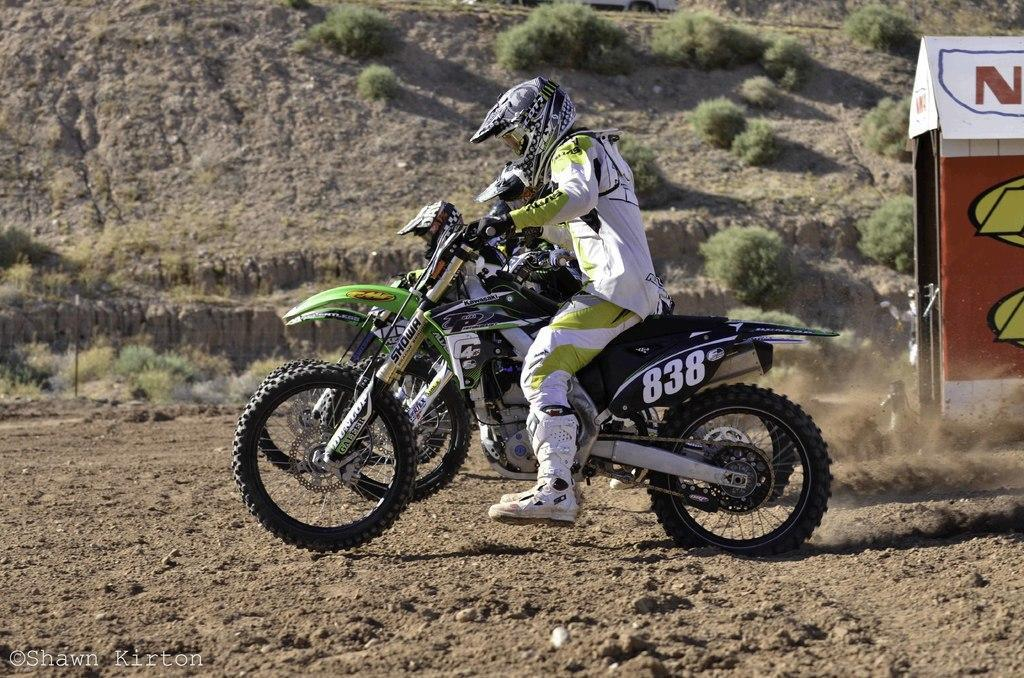helmet: (470, 75, 578, 188), (396, 200, 465, 262)
